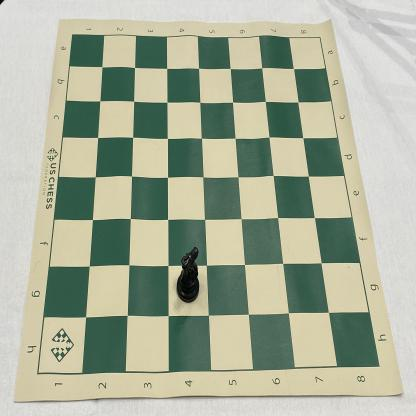black-knight: (176, 247, 200, 303)
